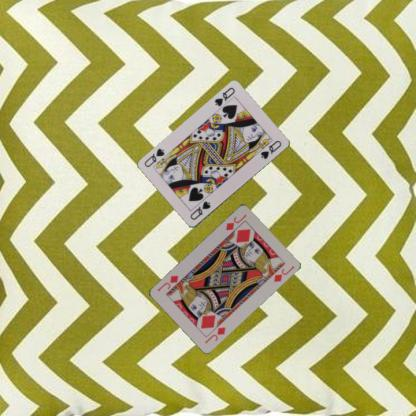Jd: (223, 211, 248, 231), (202, 324, 227, 344)
Qs: (212, 85, 236, 108), (188, 199, 211, 221)
